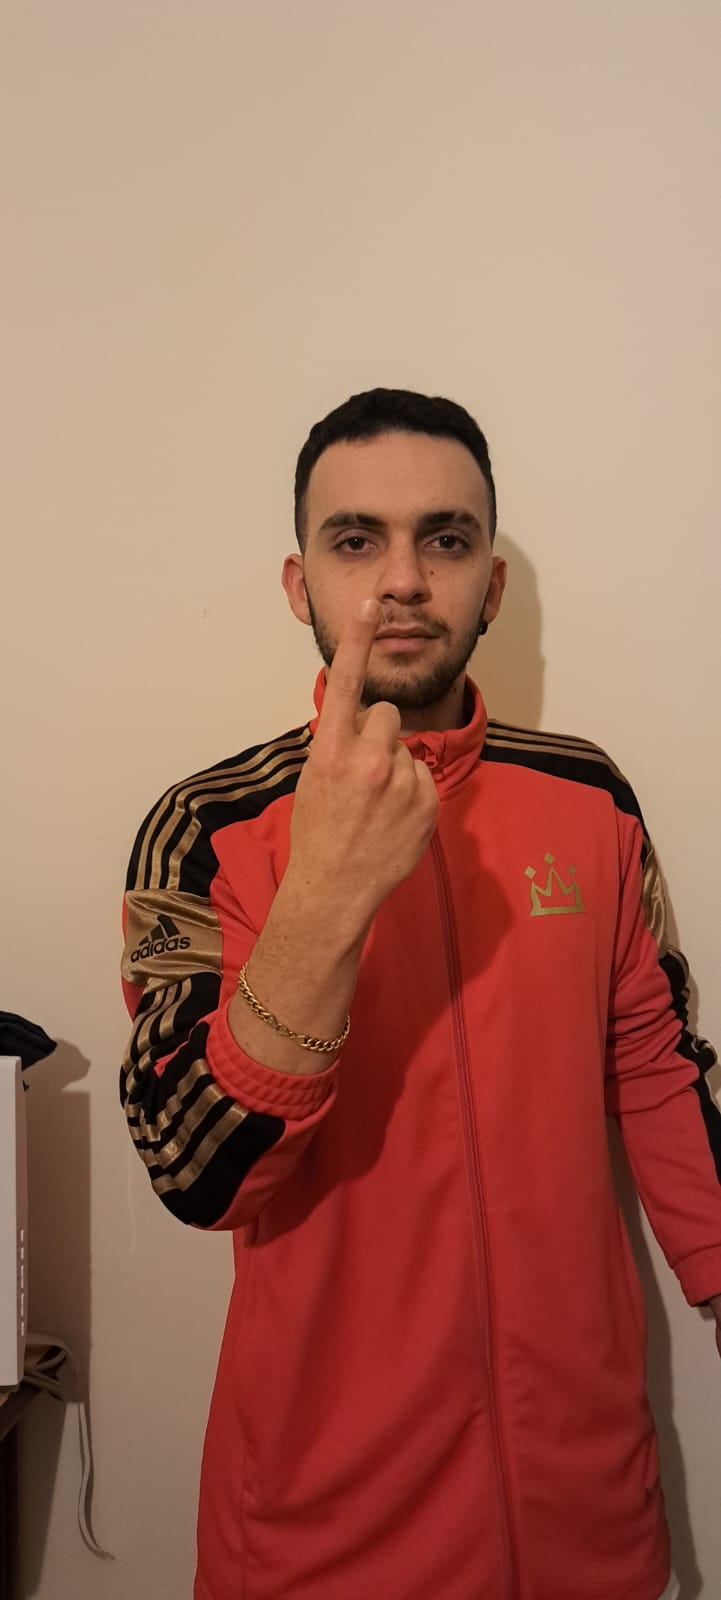joke: (267, 598, 449, 923)
